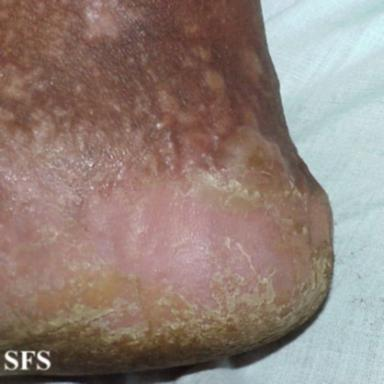Darier_s-Disease: (2, 129, 329, 375)
